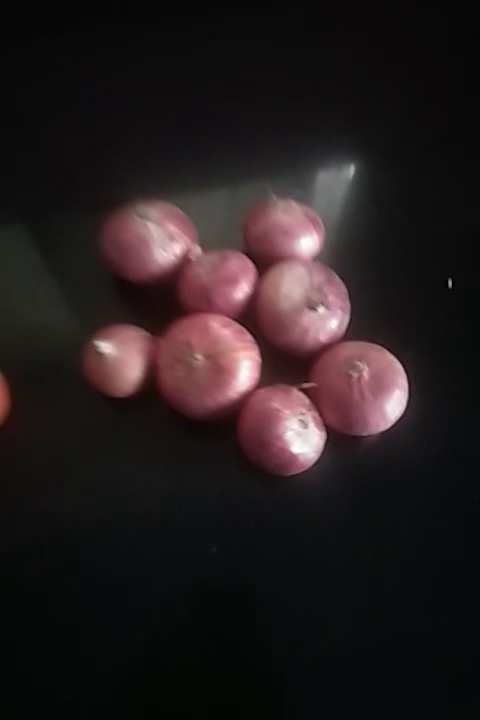onion: (148, 316, 269, 424), (99, 199, 208, 282), (253, 266, 352, 356), (311, 338, 416, 421), (232, 390, 339, 471), (80, 315, 158, 394), (244, 193, 327, 261), (175, 248, 250, 316)
